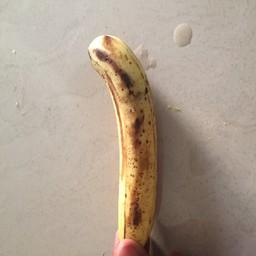Banana Ripe: (70, 21, 183, 256)
